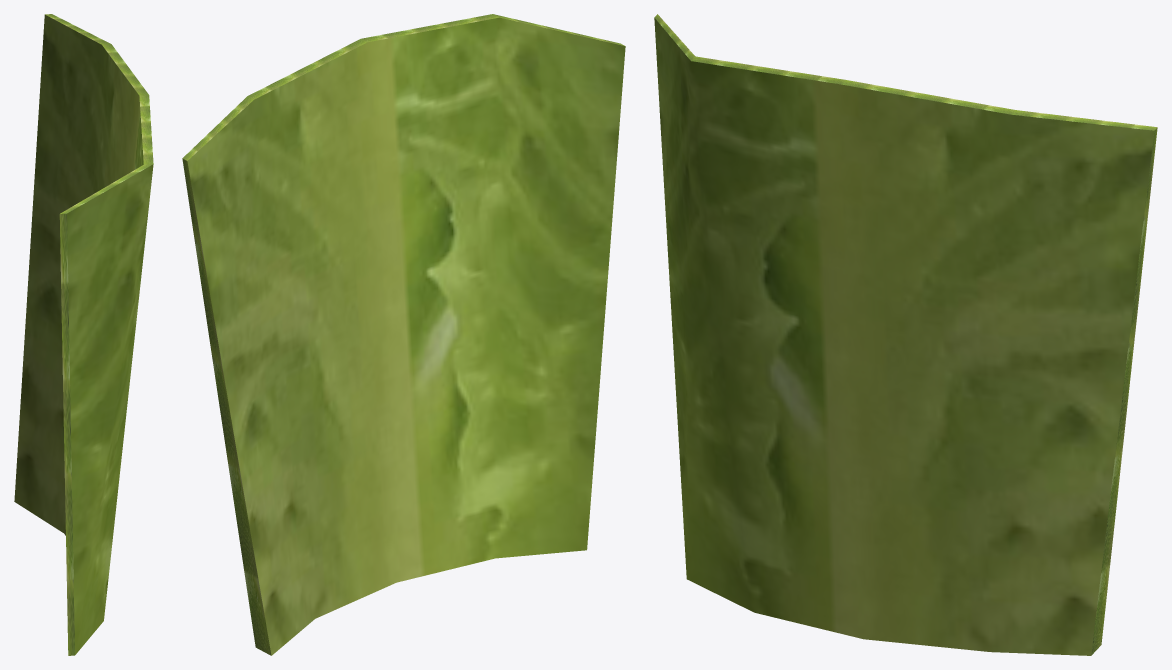
The model's file is romainelettucechop1.fbx.
The picture shows the model from 3 angles, left to right: view 1: azimuth 30°, elevation 25°; view 2: azimuth 150°, elevation 25°; view 3: azimuth 270°, elevation 25°; orthographic projection. The views are drawn at different scales.
Parts seen in each view (by area): view 1: romaineleaf2; view 2: romaineleaf2; view 3: romaineleaf2.
Boxes of the visible parts, x1,y1,x2,y2 form: romaineleaf2: (14,14,153,655); romaineleaf2: (182,14,625,655); romaineleaf2: (654,14,1157,655).
Bounding box in the file's own units: 1.85 × 4.26 × 3.37.
